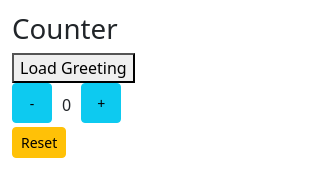
Test case: Counter Component › should increase counter by 1
Click the button "+" at (101, 103), box [81,83,121,123]
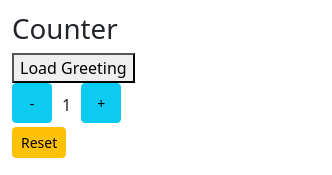
Expected: the text titled "counter" reads "1", [62,94,71,116]
